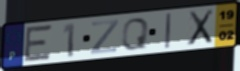1: (62, 22, 76, 59)
E: (23, 23, 54, 63)
I: (164, 12, 173, 50)
Q: (120, 17, 150, 52)
X: (186, 8, 216, 48)
Z: (89, 18, 121, 56)
